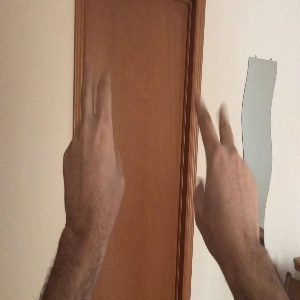hand: (188, 96, 260, 244), (64, 66, 125, 225)
